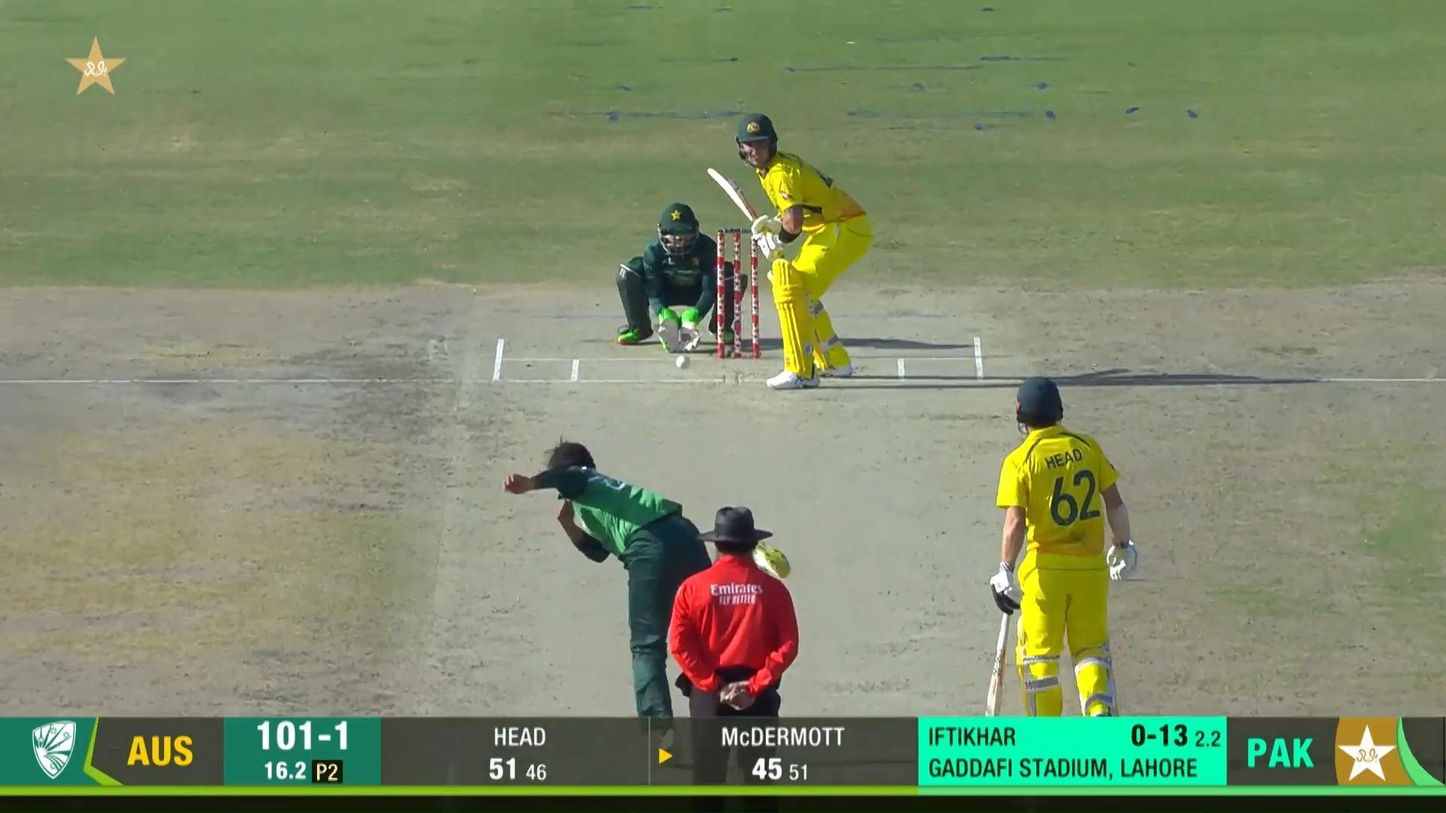BM 1: (706, 112, 873, 393)
BO: (504, 436, 792, 776)
